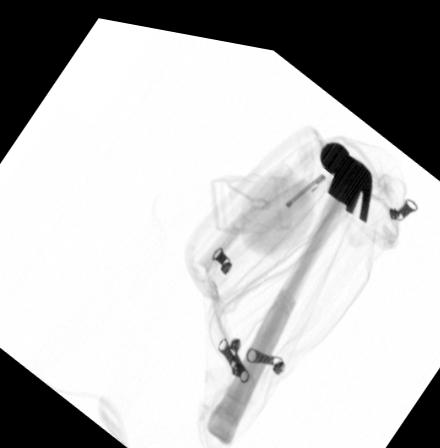Hammer: (207, 128, 373, 438)
